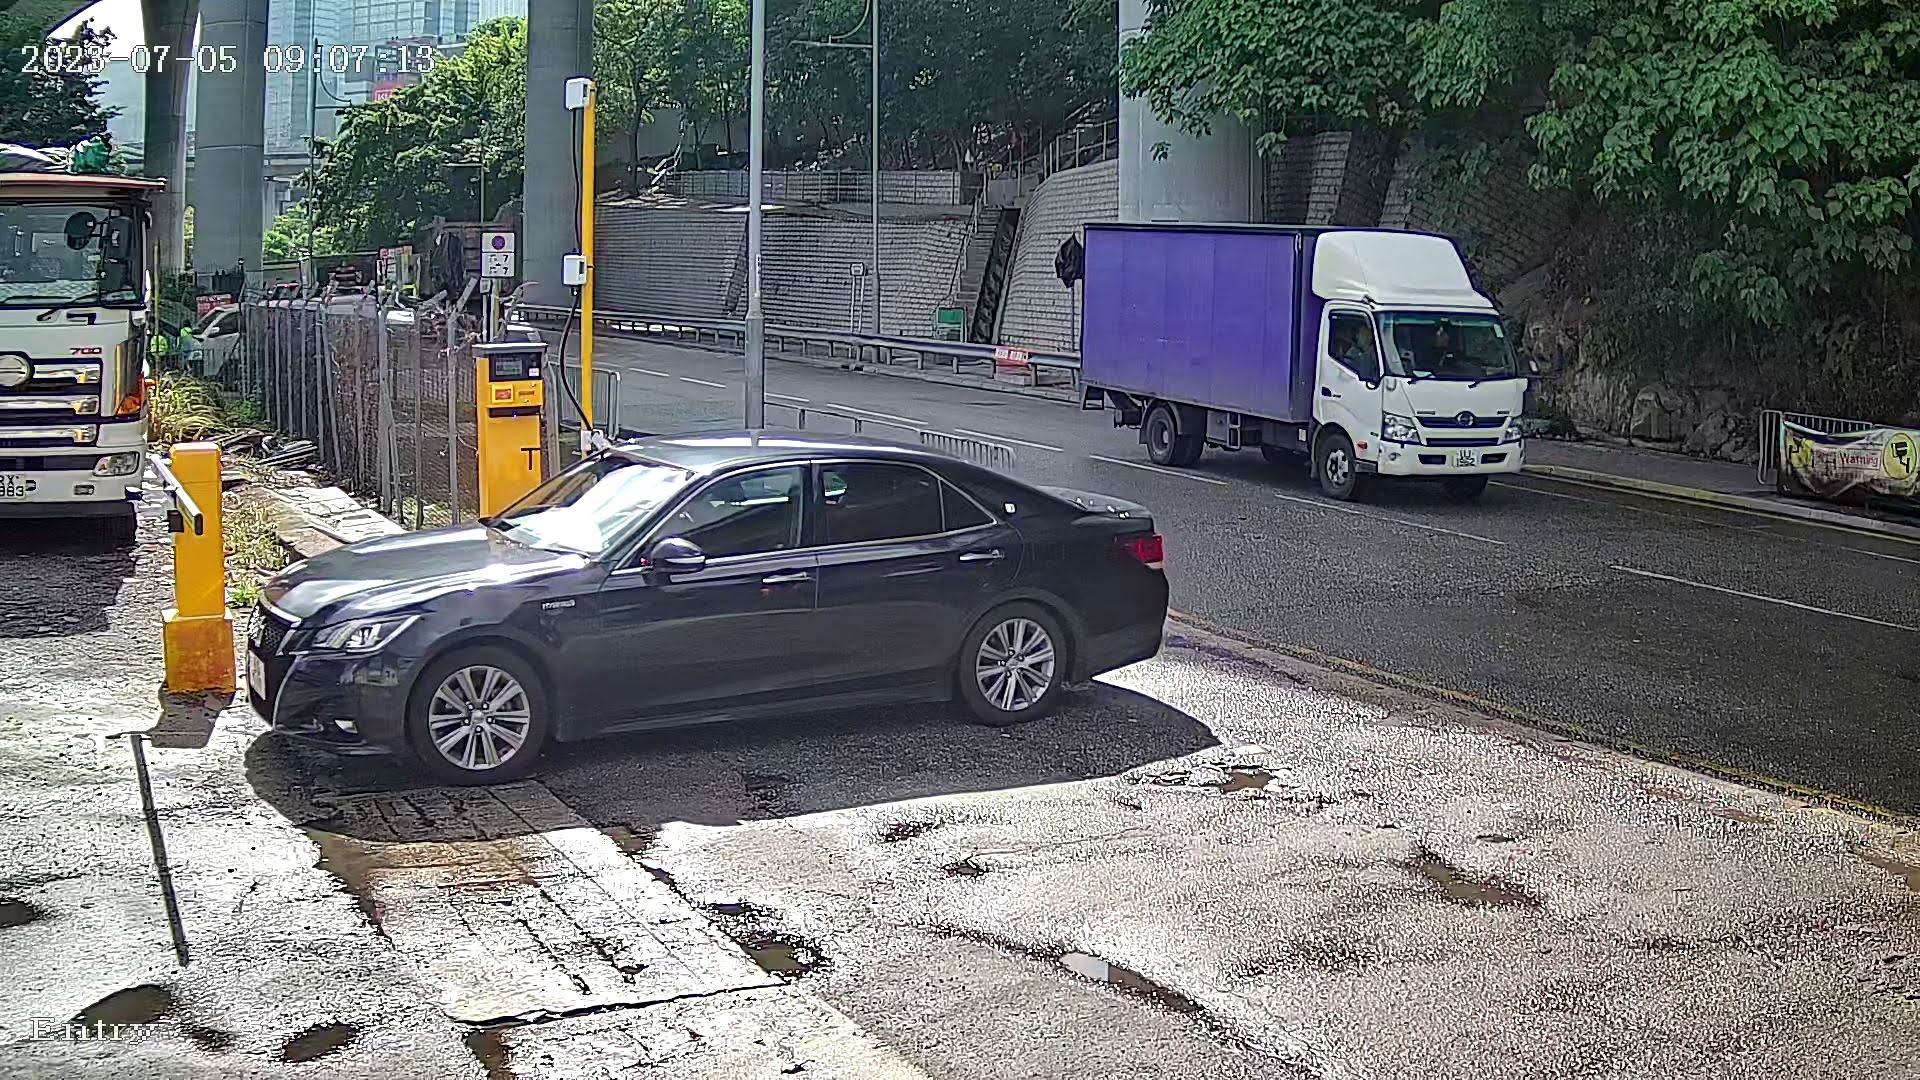privatecar: (212, 404, 1215, 839)
